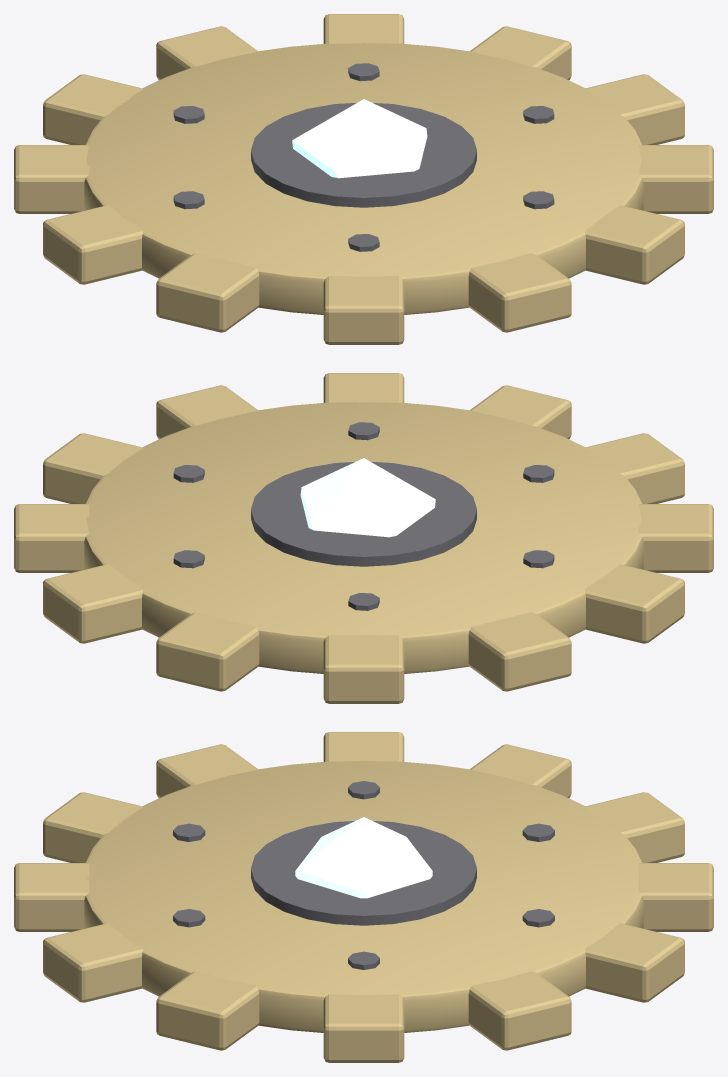
The model's file is Engrenagem.fbx.
3 renders of one model, top to bottom at view 1: azimuth 30°, elevation 25°; view 2: azimuth 150°, elevation 25°; view 3: azimuth 270°, elevation 25°, orthographic.
Parts seen in each view (by area): view 1: Engrenagem; view 2: Engrenagem; view 3: Engrenagem.
Boxes of the visible parts, <box> form: Engrenagem: <box>14,14,713,344</box>; Engrenagem: <box>14,373,713,703</box>; Engrenagem: <box>14,732,713,1062</box>.
Bounding box in the file's own units: 2.6 × 0.66 × 2.6.
